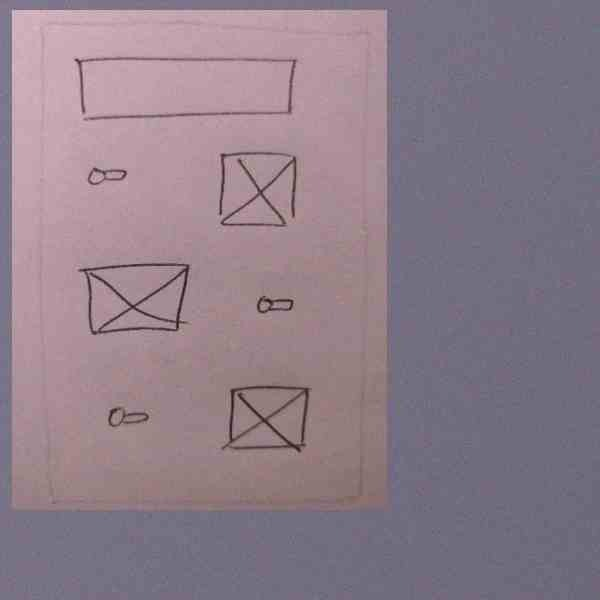image: (70, 258, 198, 343), (209, 143, 305, 233), (220, 380, 315, 458)
switch: (81, 156, 134, 193), (100, 400, 157, 433), (248, 289, 302, 320)
text_input: (70, 48, 304, 128)
